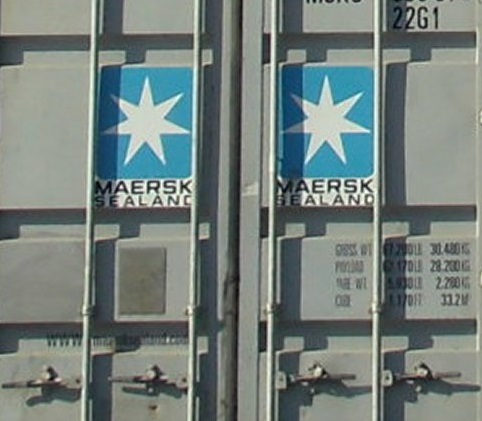container_door: (5, 3, 476, 417)
